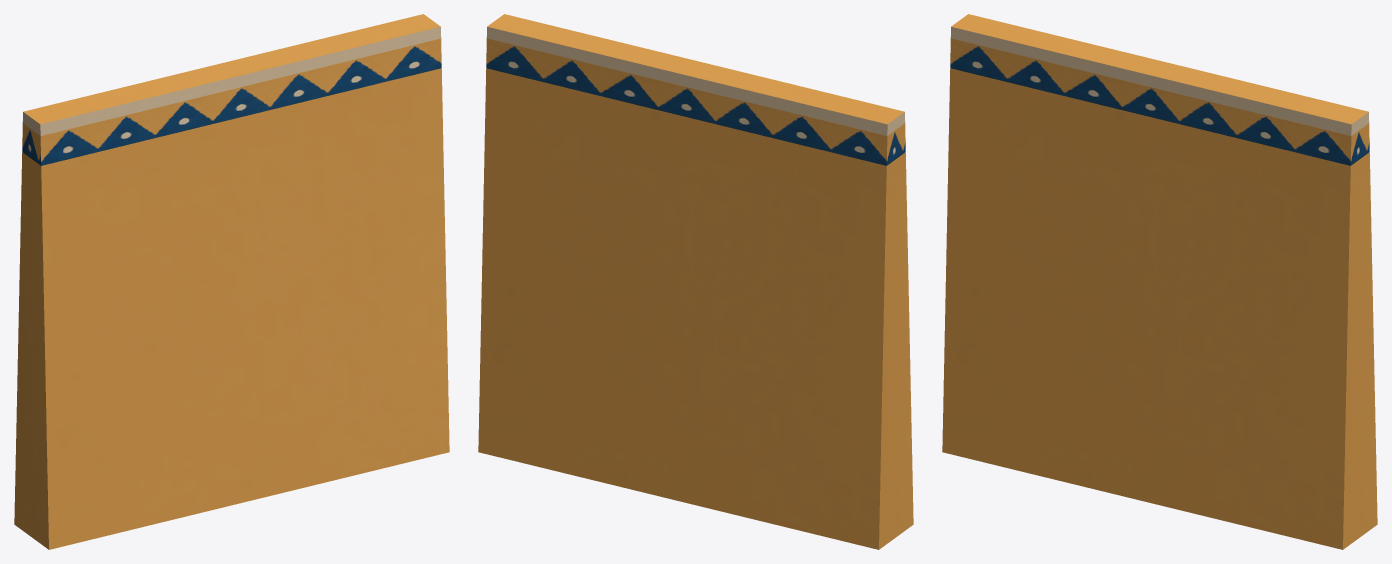
Rendered from rc_wa_wall_tapered_8x8.glb.
3 renders of one model, left to right at view 1: azimuth 30°, elevation 25°; view 2: azimuth 150°, elevation 25°; view 3: azimuth 330°, elevation 25°, orthographic.
Parts seen in each view (by area): view 1: SM_RC_WA_Wall_Tapered_8x8; view 2: SM_RC_WA_Wall_Tapered_8x8; view 3: SM_RC_WA_Wall_Tapered_8x8.
Boxes of the visible parts, box(x1,y1,x2,y2) form: SM_RC_WA_Wall_Tapered_8x8: box(14, 14, 449, 549); SM_RC_WA_Wall_Tapered_8x8: box(478, 14, 913, 549); SM_RC_WA_Wall_Tapered_8x8: box(942, 14, 1377, 549).
Bounding box in the file's own units: 8 × 8 × 1.2.
Materials: 1 (1 with a texture image).
